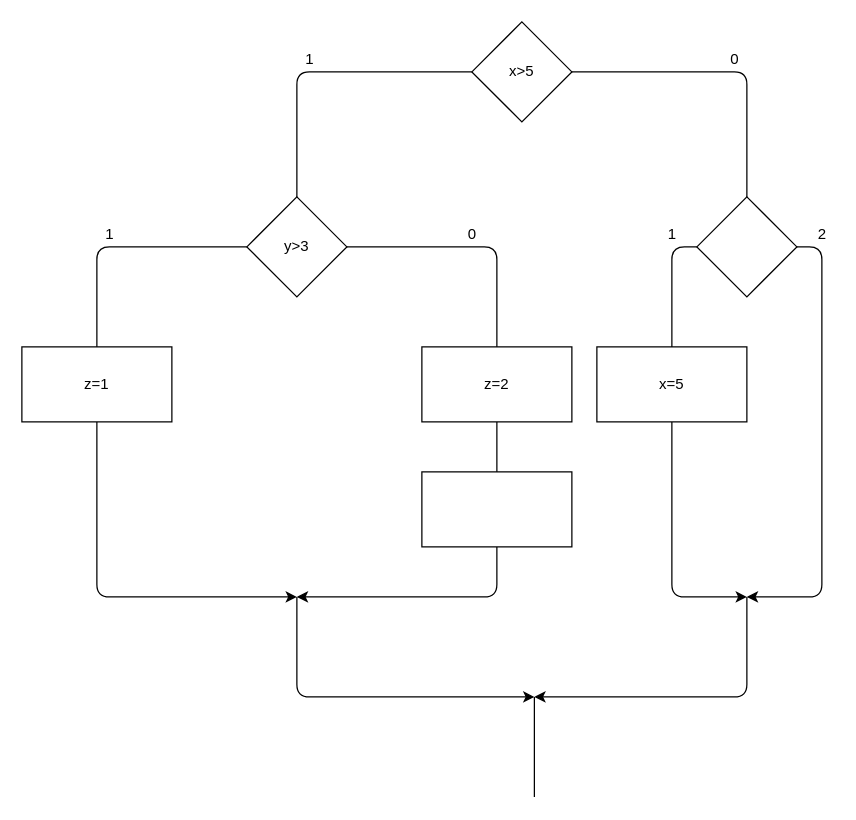
Some shapes in this 856 by 820 pixel diagram are drawn without their labels. Each missing label, with the centre of its shape:
"x=y-z" belongs at point 496,509.
"x>=10" belongs at point 746,246.
